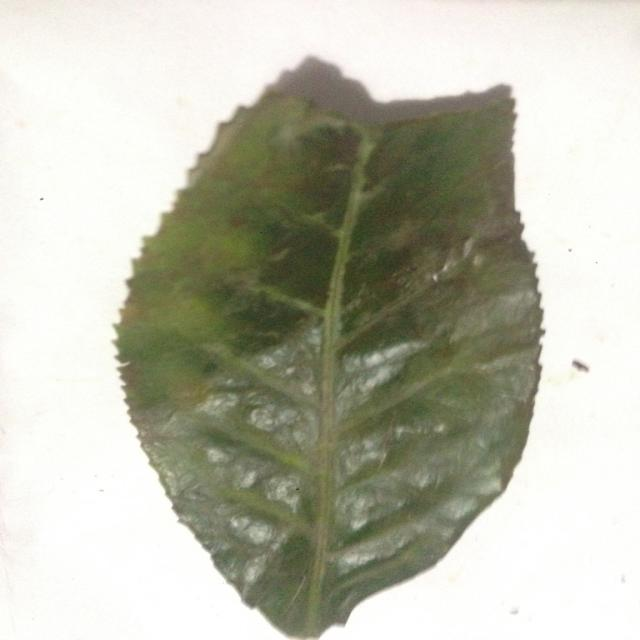Red Leaf Spot: (110, 71, 545, 640)
